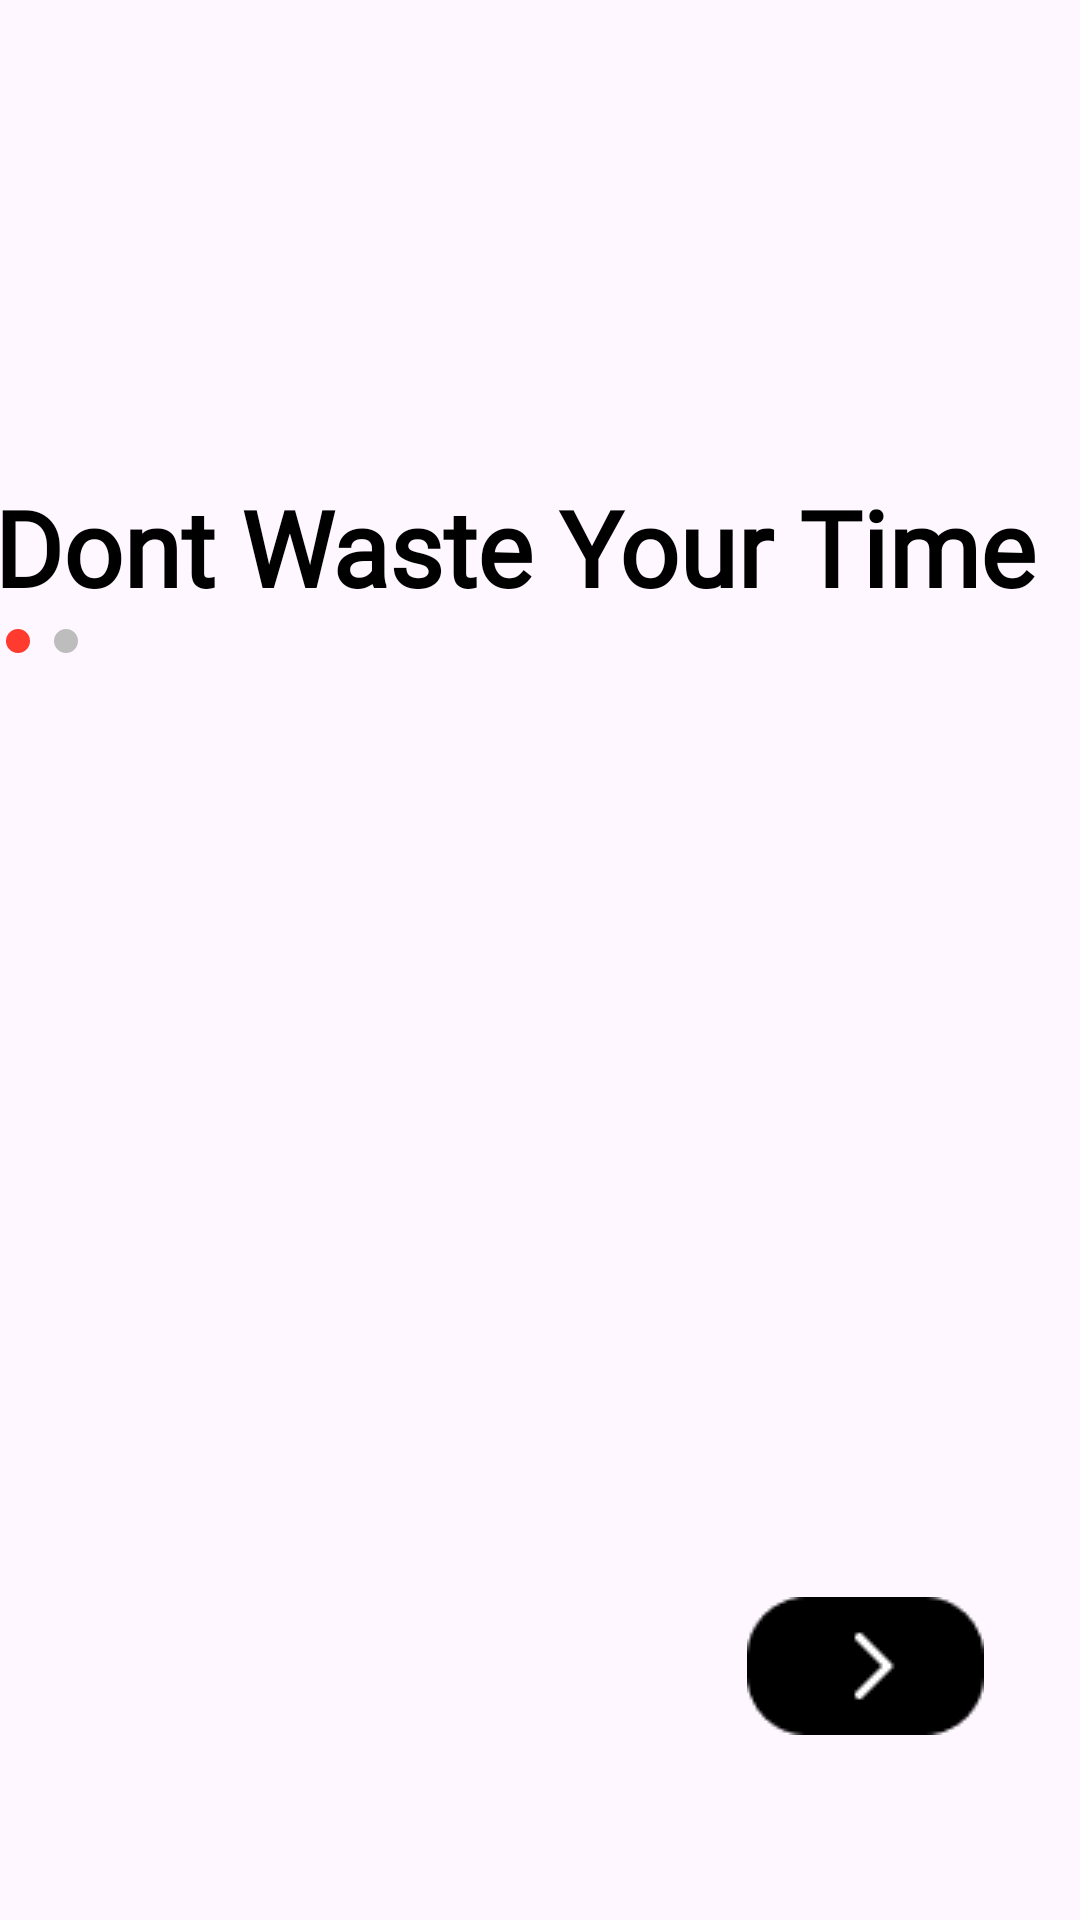

Icon click points for this 1080w x 1920h phone screenshot, format (x,y):
dot: (18,641), (66,641)
Next: (865,1666)
